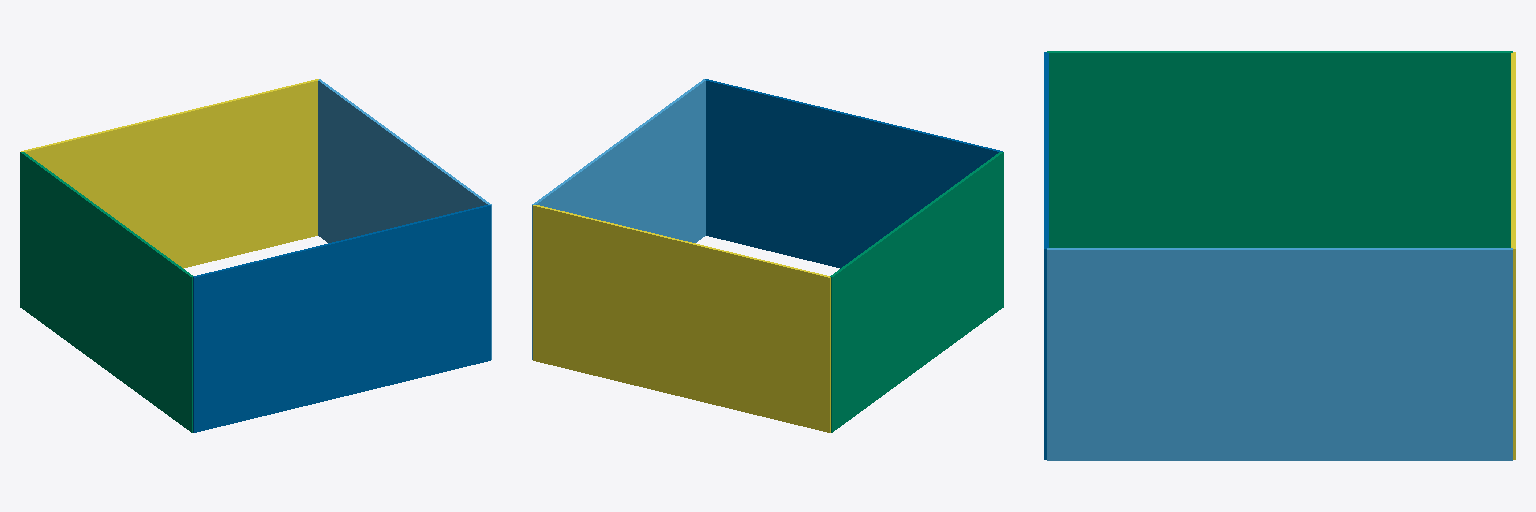
URDF robot description (walls):
<?xml version="1.0"?>
<robot name="walls">
  <material name="wallmat">
    <color rgba="1.00, 0.816, 0.843 1"/>
  </material>

  <link name="origin">
    <inertial>
      <origin rpy="0 0 0" xyz="0 0 0"/>
      <mass value="0"/>
      <inertia ixx="0" ixy="0" ixz="0" iyy="0" iyz="0" izz="0"/>
    </inertial>
  </link>

  <link name="xpos">
    <inertial>
      <origin rpy="0 0 0" xyz="0 0 0"/>
      <mass value="0"/>
      <inertia ixx="0" ixy="0" ixz="0" iyy="0" iyz="0" izz="0"/>
    </inertial>
    <visual>
      <origin rpy="0 0 0" xyz="0.5 0.0 0.25"/>
      <geometry>
        <box size="0.01 1 0.5"/>
      </geometry>
      <material name="wallmat"/>
    </visual>
    <collision>
      <origin rpy="0 0 0" xyz="0.5 0.0 0.25"/>
      <geometry>
        <box size="0.01 1 0.5"/>
      </geometry>
    </collision>
  </link>

  <link name="xneg">
    <inertial>
      <origin rpy="0 0 0" xyz="0 0 0"/>
      <mass value="0"/>
      <inertia ixx="0" ixy="0" ixz="0" iyy="0" iyz="0" izz="0"/>
    </inertial>
    <visual>
      <origin rpy="0 0 0" xyz="-0.5 0.0 0.25"/>
      <geometry>
        <box size="0.01 1 0.5"/>
      </geometry>
      <material name="wallmat"/>
    </visual>
    <collision>
      <origin rpy="0 0 0" xyz="-0.5 0.0 0.25"/>
      <geometry>
        <box size="0.01 1 0.5"/>
      </geometry>
    </collision>
  </link>

  <link name="ypos">
    <inertial>
      <origin rpy="0 0 0" xyz="0 0 0"/>
      <mass value="0"/>
      <inertia ixx="0" ixy="0" ixz="0" iyy="0" iyz="0" izz="0"/>
    </inertial>
    <visual>
      <origin rpy="0 0 0" xyz="0.0 0.5 0.25"/>
      <geometry>
        <box size="1 0.01 0.5"/>
      </geometry>
      <material name="wallmat"/>
    </visual>
    <collision>
      <origin rpy="0 0 0" xyz="0.0 0.5 0.25"/>
      <geometry>
        <box size="1 0.01 0.5"/>
      </geometry>
    </collision>
  </link>

  <link name="yneg">
    <inertial>
      <origin rpy="0 0 0" xyz="0 0 0"/>
      <mass value="0"/>
      <inertia ixx="0" ixy="0" ixz="0" iyy="0" iyz="0" izz="0"/>
    </inertial>
    <visual>
      <origin rpy="0 0 0" xyz="0.0 -0.5 0.25"/>
      <geometry>
        <box size="1 0.01 0.5"/>
      </geometry>
      <material name="wallmat"/>
    </visual>
    <collision>
      <origin rpy="0 0 0" xyz="0.0 -0.5 0.25"/>
      <geometry>
        <box size="1 0.01 0.5"/>
      </geometry>
    </collision>
  </link>

  <joint name="xpos_j" type="fixed">
    <parent link="origin"/>
    <child link="xpos"/>
  </joint>

  <joint name="xneg_j" type="fixed">
    <parent link="origin"/>
    <child link="xneg"/>
  </joint>

  <joint name="ypos_j" type="fixed">
    <parent link="origin"/>
    <child link="ypos"/>
  </joint>

  <joint name="yneg_j" type="fixed">
    <parent link="origin"/>
    <child link="yneg"/>
  </joint>
  
</robot>

--- What the picture shows (computed from the rendered views, not written in the file) ---
Views: 3 orthographic renders of the robot side by side, from view 1: azimuth 30°, elevation 25°; view 2: azimuth 150°, elevation 25°; view 3: azimuth 270°, elevation 25°.
Robot: walls — 5 links, 4 joints (4 fixed); root link origin; default pose: every joint at zero.
Links seen in each view (by area): view 1: yneg, ypos, xneg, xpos; view 2: ypos, yneg, xneg, xpos; view 3: xpos, xneg, ypos, yneg.
Boxes of the visible links, <box> form: yneg: <box>193,205,490,432</box>; ypos: <box>21,79,318,268</box>; xneg: <box>20,152,192,432</box>; xpos: <box>318,79,491,359</box>; ypos: <box>533,205,830,432</box>; yneg: <box>705,79,1002,268</box>; xneg: <box>830,152,1003,432</box>; xpos: <box>532,79,705,359</box>; xpos: <box>1047,248,1512,460</box>; xneg: <box>1047,51,1512,247</box>; ypos: <box>1511,52,1515,459</box>; yneg: <box>1044,52,1048,459</box>.
Size in the robot's own frame: 1.01 by 1.01 by 0.5 metres.
Geometry: primitives only (box / cylinder / sphere), no mesh files.